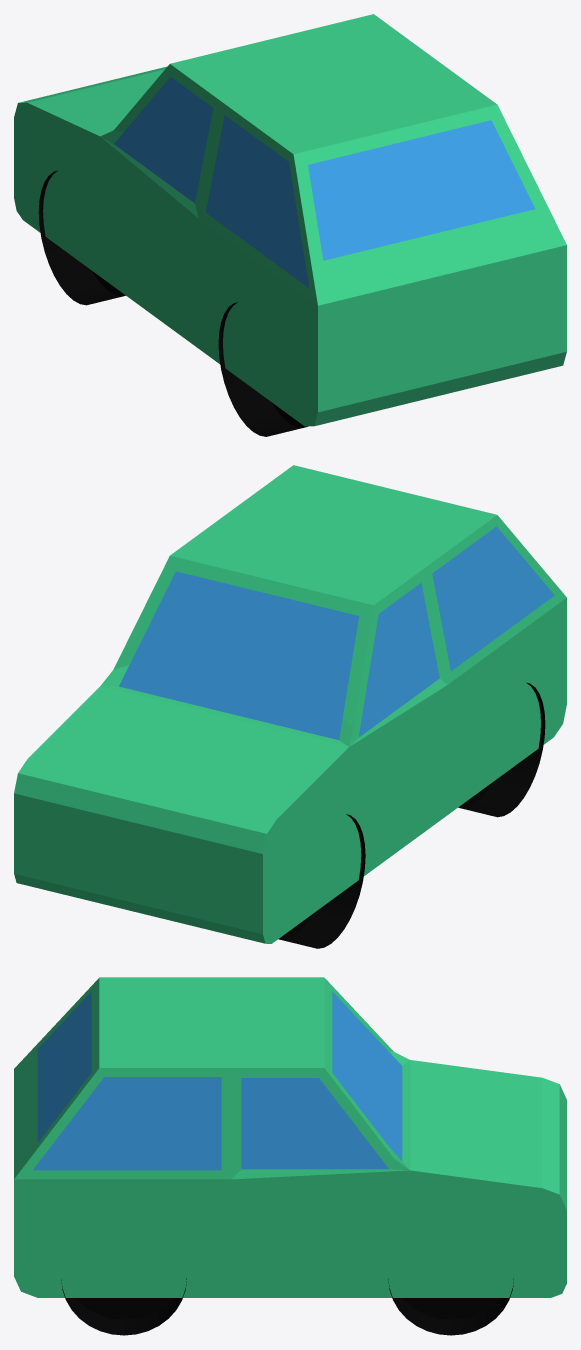
The model's file is panda.glb.
The picture shows the model from 3 angles, top to bottom: view 1: azimuth 30°, elevation 25°; view 2: azimuth 150°, elevation 25°; view 3: azimuth 270°, elevation 25°; orthographic projection. The views are drawn at different scales.
Visible parts, largest first — view 1: Cube, Cylinder.002, Cylinder.001; view 2: Cube, Cylinder.002, Cylinder.001; view 3: Cube, Cylinder, Cylinder.003.
Part boxes in pixels (x1=…): Cube: x1=14, y1=14, x2=566, y2=426; Cylinder.002: x1=218, y1=302, x2=307, y2=436; Cylinder.001: x1=38, y1=170, x2=125, y2=305; Cube: x1=14, y1=465, x2=566, y2=943; Cylinder.002: x1=458, y1=682, x2=545, y2=817; Cylinder.001: x1=278, y1=814, x2=365, y2=948; Cube: x1=14, y1=977, x2=566, y2=1297; Cylinder: x1=388, y1=1279, x2=513, y2=1335; Cylinder.003: x1=61, y1=1278, x2=186, y2=1335.
Bounding box in the file's own units: 2.07 × 2.16 × 4.23.
